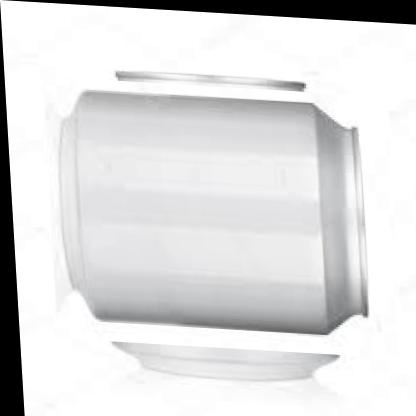trash: (60, 91, 367, 332)
